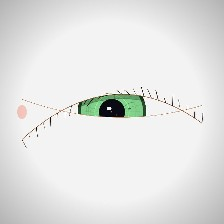foreign_body_visible: (85, 125, 108, 143)
